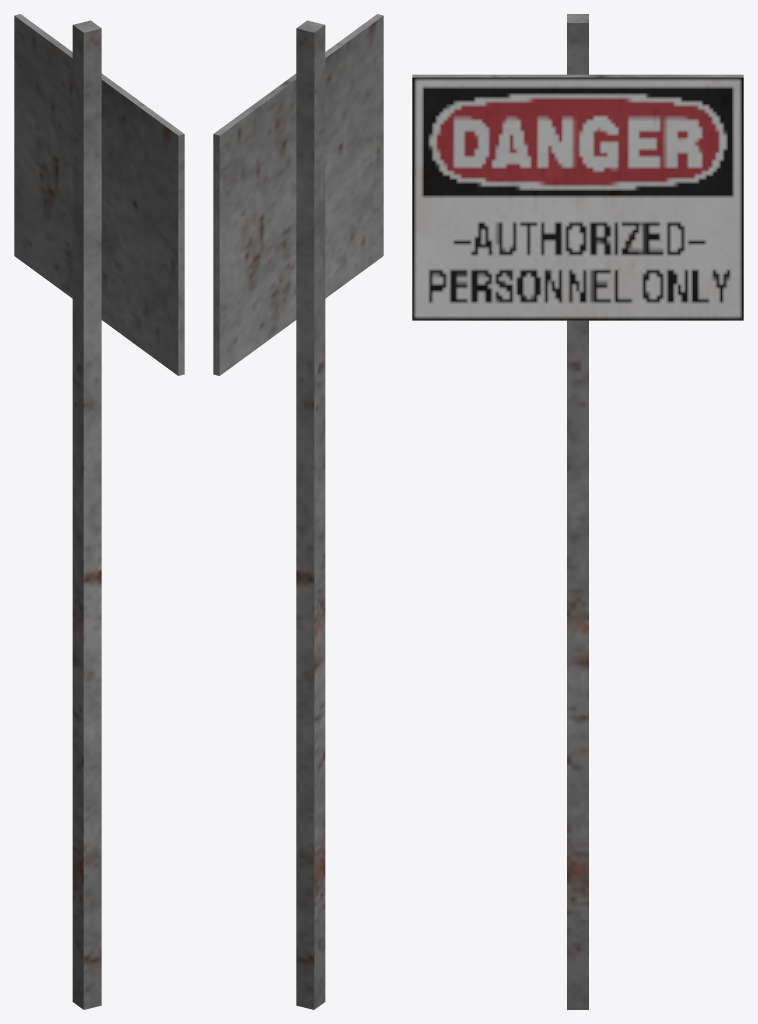
Rendered from Sign_9.fbx.
3 views of the same model, side by side, from view 1: azimuth 30°, elevation 25°; view 2: azimuth 150°, elevation 25°; view 3: azimuth 270°, elevation 25° (orthographic).
Parts seen in each view (by area): view 1: Sign_9; view 2: Sign_9; view 3: Sign_9.
Part boxes in pixels (left/top/right/bottom): Sign_9: left=14, top=14, right=184, bottom=1009; Sign_9: left=213, top=14, right=383, bottom=1009; Sign_9: left=412, top=14, right=743, bottom=1009.
Bounding box in the file's own units: 5.76 × 221 × 67.12.
